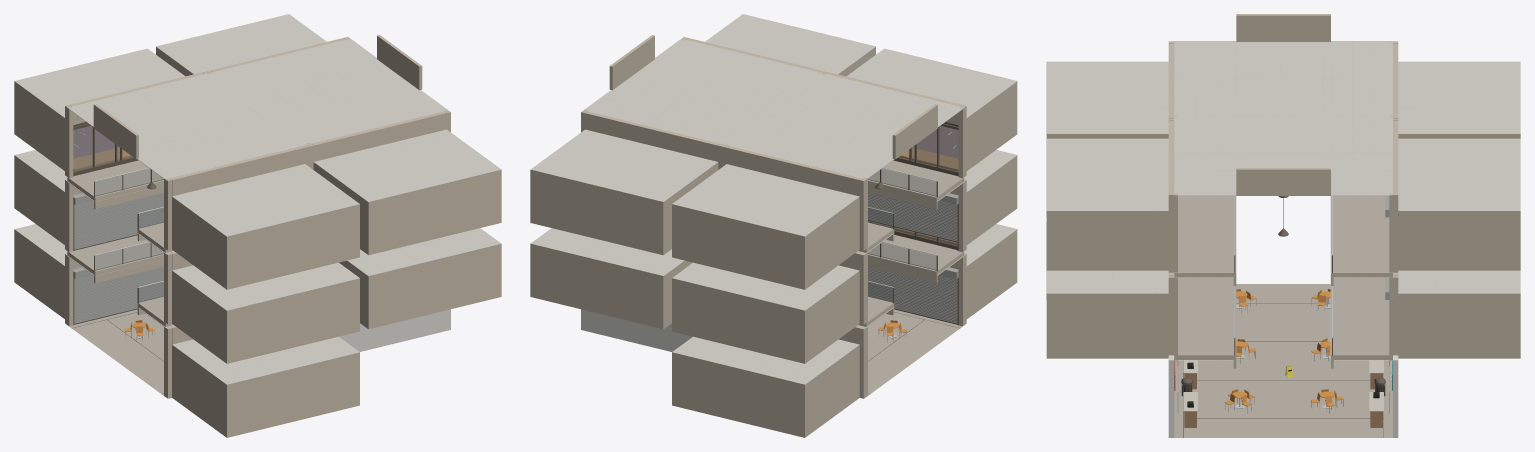
File: food_court.glb
3 views of the same model, side by side, from view 1: azimuth 30°, elevation 25°; view 2: azimuth 150°, elevation 25°; view 3: azimuth 270°, elevation 25° (orthographic). The views are drawn at different scales.
Parts seen in each view (by area): view 1: food_court; view 2: food_court; view 3: food_court.
Boxes of the visible parts, x1=… form: food_court: x1=14, y1=14, x2=501, y2=437; food_court: x1=530, y1=14, x2=1017, y2=437; food_court: x1=1046, y1=14, x2=1520, y2=437.
Size of what is drawn, in the model's own units: 20.2 by 16.3 by 26.01.
